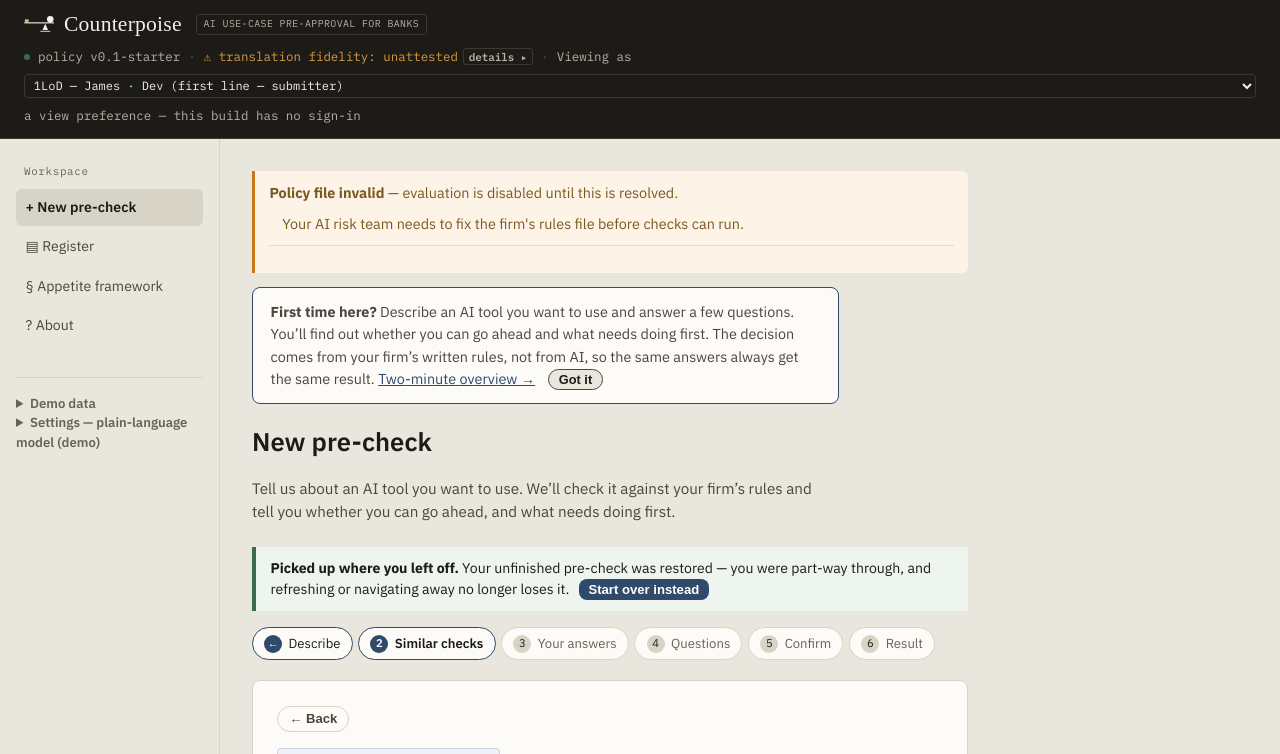
Test case: IntakeFlow — going back (FN-006) › offers a back control on the duplicate check that returns the typed description
Step 1. Click the button "← Back" → (313, 719), box x1=277 y1=706 x2=350 y2=732
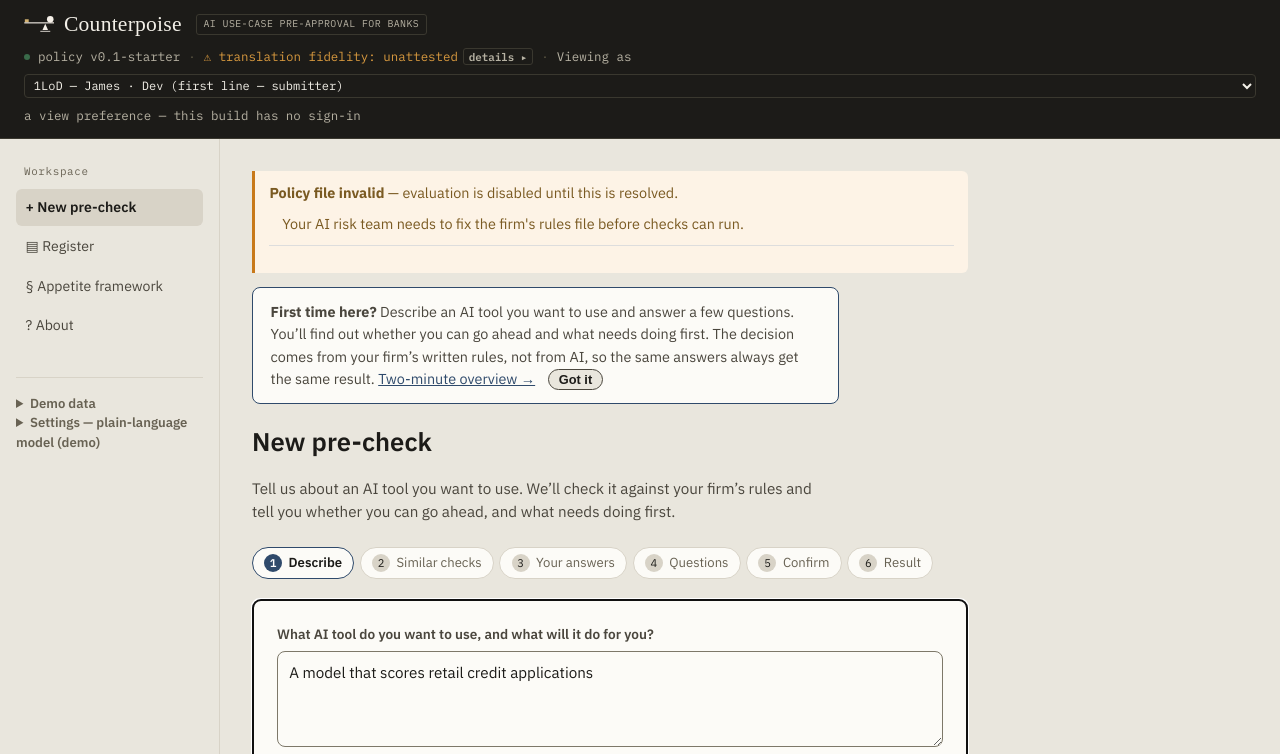
Expected: the text box labelled "What AI tool do you want to use" holds "A model that scores retail credit applications", x1=277 y1=651 x2=943 y2=747
